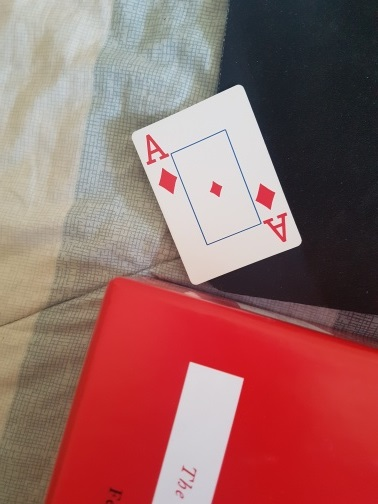ace: (131, 82, 304, 284)
